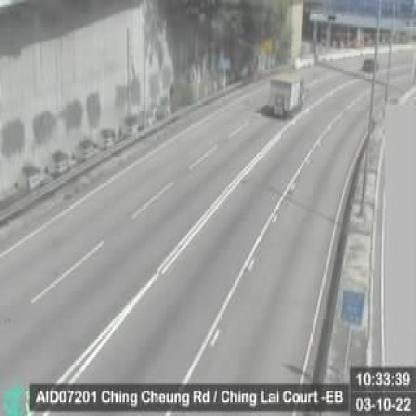Truck: (266, 72, 306, 112)
